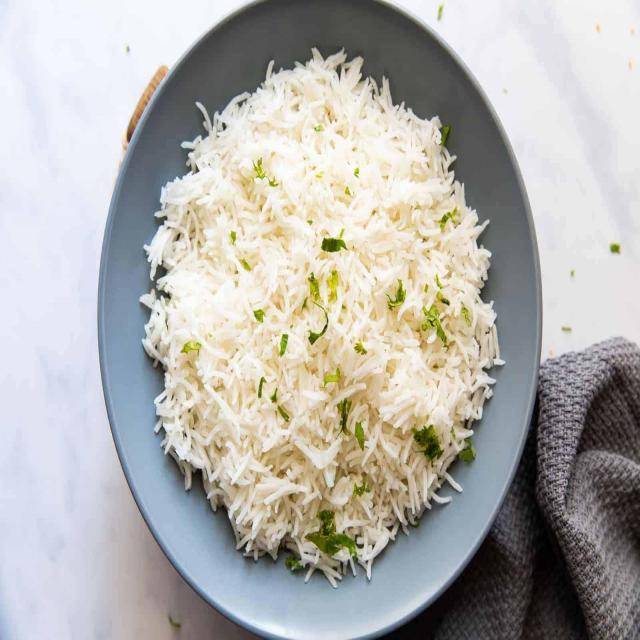rice: (147, 61, 495, 575)
